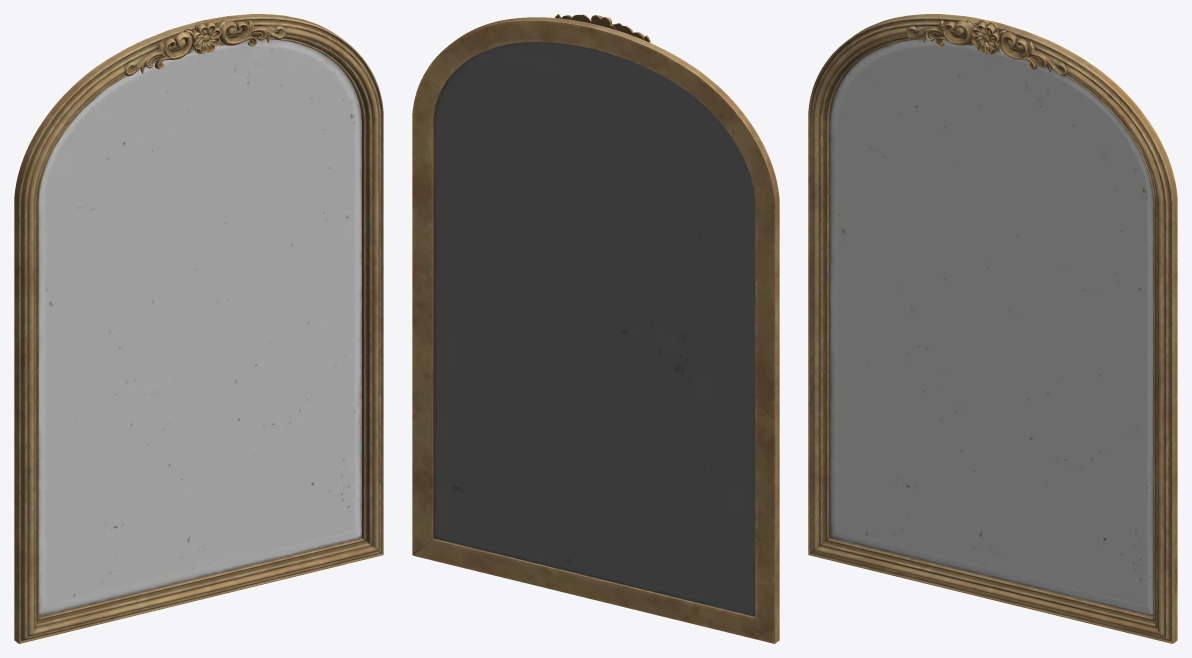
File: mirror-wall.glb
3 renders of one model, left to right at view 1: azimuth 30°, elevation 25°; view 2: azimuth 150°, elevation 25°; view 3: azimuth 330°, elevation 25°, orthographic.
Parts seen in each view (by area): view 1: ornate_mirror_01; view 2: ornate_mirror_01; view 3: ornate_mirror_01.
Part boxes in pixels (left/top/right/bottom): ornate_mirror_01: left=14, top=14, right=383, bottom=643; ornate_mirror_01: left=412, top=14, right=779, bottom=643; ornate_mirror_01: left=808, top=14, right=1177, bottom=643.
Bounding box in the file's own units: 0.49 × 0.745 × 0.026.
Materials: 1 (1 with a texture image).
